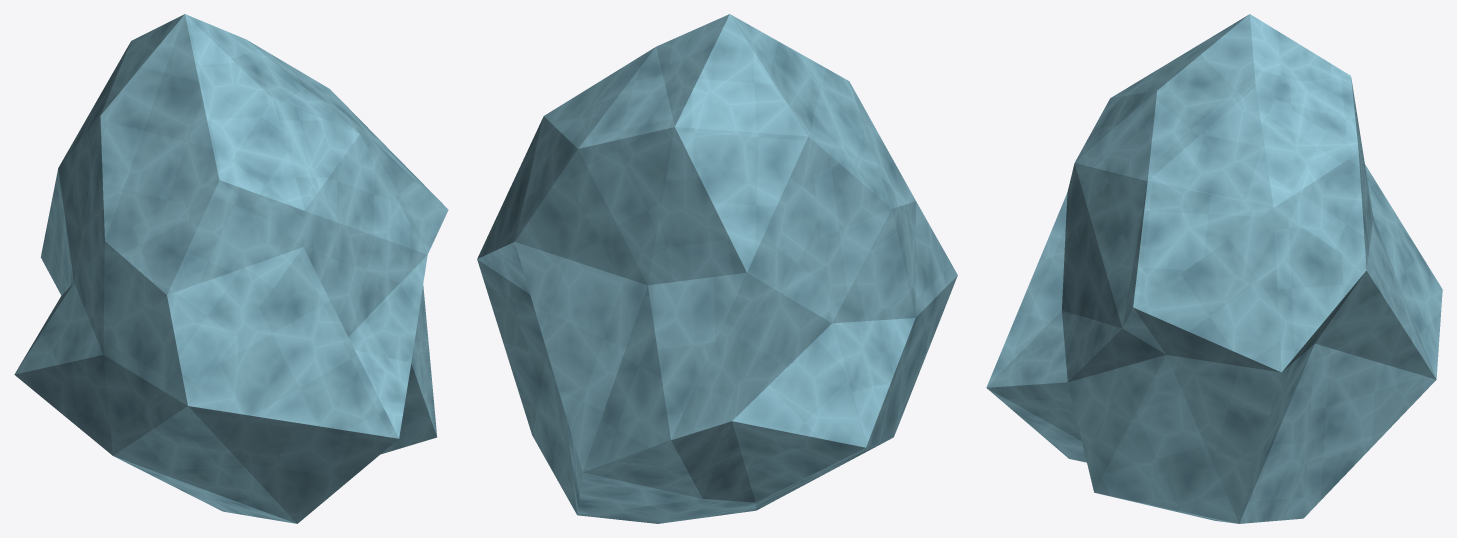
The model's file is iceberg_1.glb.
3 views of the same model, side by side, from view 1: azimuth 30°, elevation 25°; view 2: azimuth 150°, elevation 25°; view 3: azimuth 270°, elevation 25° (orthographic). The views are drawn at different scales.
Visible parts, largest first — view 1: iceberg_1; view 2: iceberg_1; view 3: iceberg_1.
Boxes of the visible parts, bbox=[...] form: iceberg_1: bbox=[14, 14, 448, 523]; iceberg_1: bbox=[477, 14, 957, 523]; iceberg_1: bbox=[986, 14, 1442, 523].
Size of the model in its own units: 2.99 by 3.76 by 3.35.
1 material, 1 textured.
